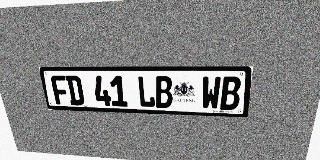1: (109, 76, 128, 107)
4: (92, 76, 112, 106)
B: (220, 76, 242, 110), (155, 76, 173, 108)
D: (65, 75, 85, 105)
F: (50, 75, 70, 105)
L: (137, 76, 155, 108)
W: (201, 76, 221, 110)
